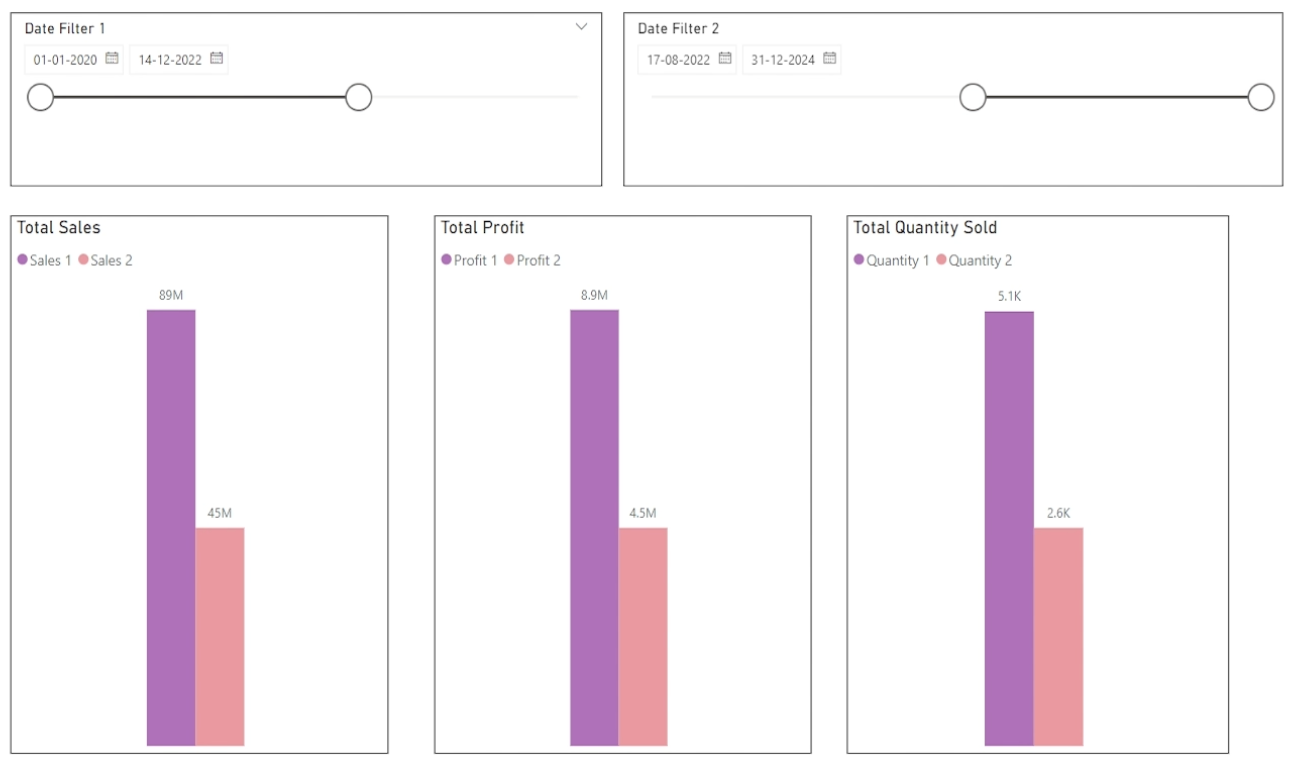

The dashboard page shown, as its layout file describes it:
{"tool":"powerbi","page":{"name":"Comparison Sales/Profit/Quantity","canvas":[1280,720],"ordinal":2},"visuals":[{"type":"slicer","fields":{"Values":["Date Table 1.Date"]},"box":[32.4,32.4,552.2,142.5],"z":0},{"type":"slicer","fields":{"Values":["Date Table 2.Date"]},"box":[608.8,32.4,446.9,142.5],"z":1000},{"type":"clusteredColumnChart","title":"Total Sales   ","fields":{"Y":["Sum(Fact Table.Net Sales   )","Date Table 1.Sum of Net Sales"]},"box":[32.4,194.3,382.1,492.2],"z":2000},{"type":"clusteredColumnChart","title":"Total Profit","fields":{"Y":["Sum(Fact Table.Profit)","Measures Table.Total Profit"]},"box":[448.5,194.3,382.1,492.2],"z":3000},{"type":"clusteredColumnChart","title":"Total Quantity Sold ","fields":{"Y":["Sum(Fact Table.Units Sold)","Measures Table.Quantity Sold"]},"box":[864.7,194.3,382.1,492.2],"z":4000}]}

Visuals, with their boxes on the page's 1280x720 design canvas (x1, y1, x2, y2). These are canvas units, not pixel positions in the 1296x766 screenshot, which may show the page scaled, cropped or inside an application window:
slicer - Date Table 1.Date: box=[32, 32, 585, 175]
slicer - Date Table 2.Date: box=[609, 32, 1056, 175]
"Total Sales   " clusteredColumnChart: box=[32, 194, 414, 686]
"Total Profit" clusteredColumnChart: box=[448, 194, 831, 686]
"Total Quantity Sold " clusteredColumnChart: box=[865, 194, 1247, 686]
